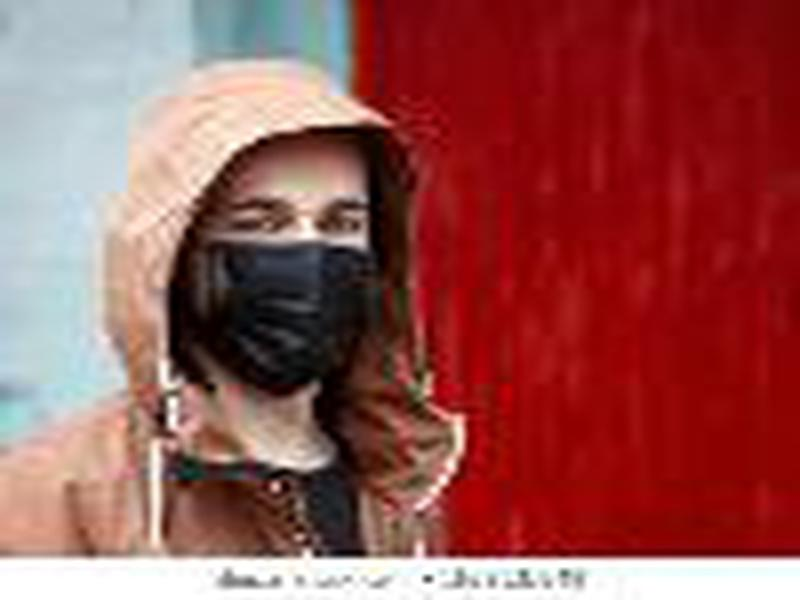with_mask: (193, 135, 373, 402)
